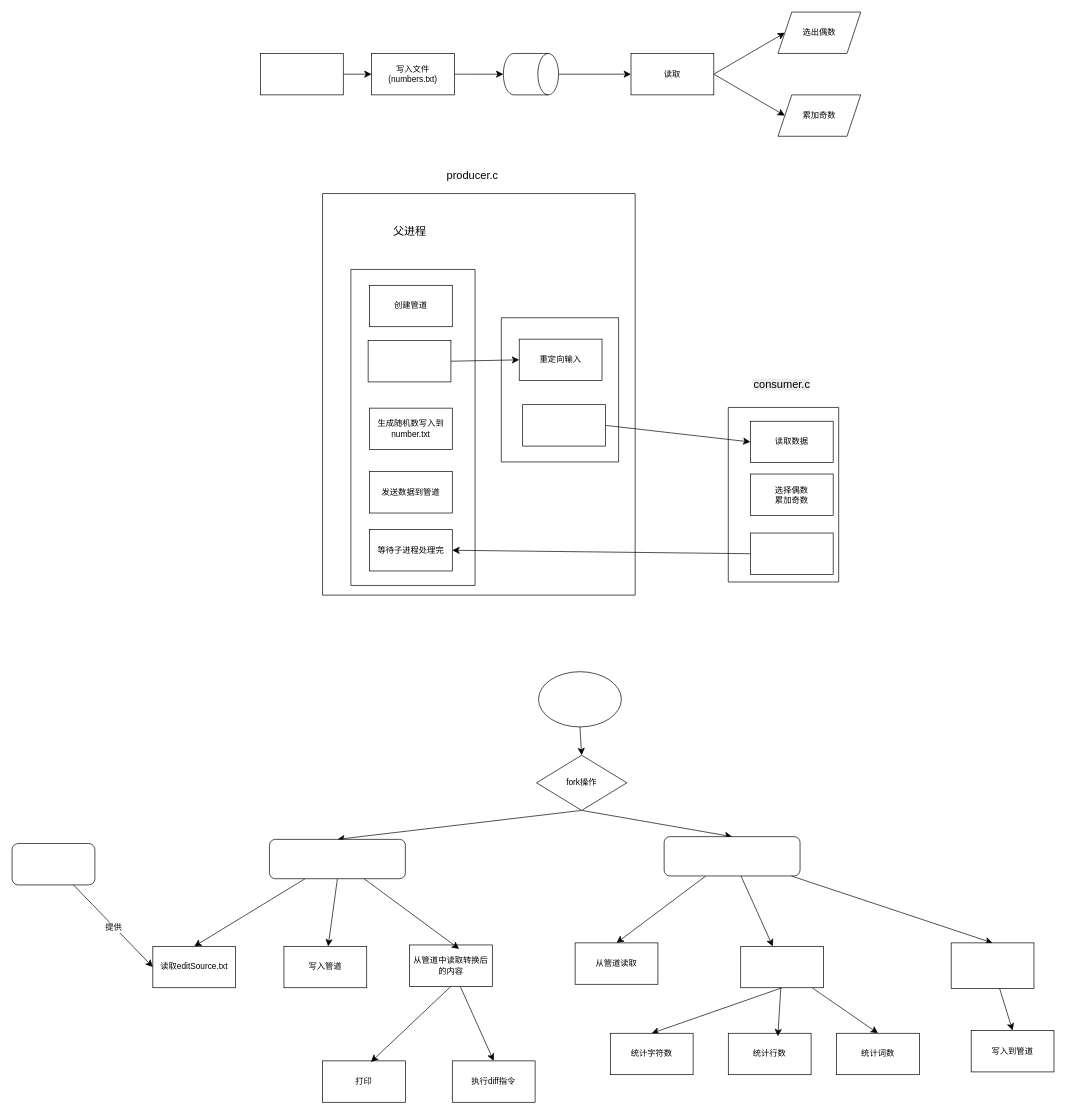
Some shapes in this 1066 by 1114 pixel diagram are drawn without their labels. The centre of each missing label's shape, as x and y in pixels:
"consumerProducerParent" belongs at (337,859).
"Main程序" belongs at (579,699).
"producerConsumerChild" belongs at (731,856).
"分析文本内容" belongs at (782,967).
"创建子进程" belongs at (409,361).
"大小转换为小写" belongs at (992,965).
"执行exec" belongs at (563,425).
"生成随机数" belongs at (301,74).
"用户" belongs at (53,864).
"管道" belongs at (531,74).
"输出" belongs at (791,553).
